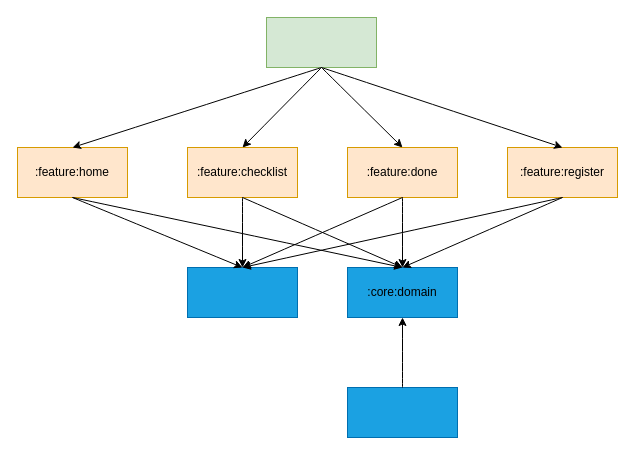
The diagram is 635 pixels wide and 455 high, and some of its shapes have lost their labels. Here are the shapes that lost their labels. From the top down, the centre of each, then its label:
At pixel 321 42: ":app".
At pixel 242 292: ":core:ui".
At pixel 402 412: ":core:data".
